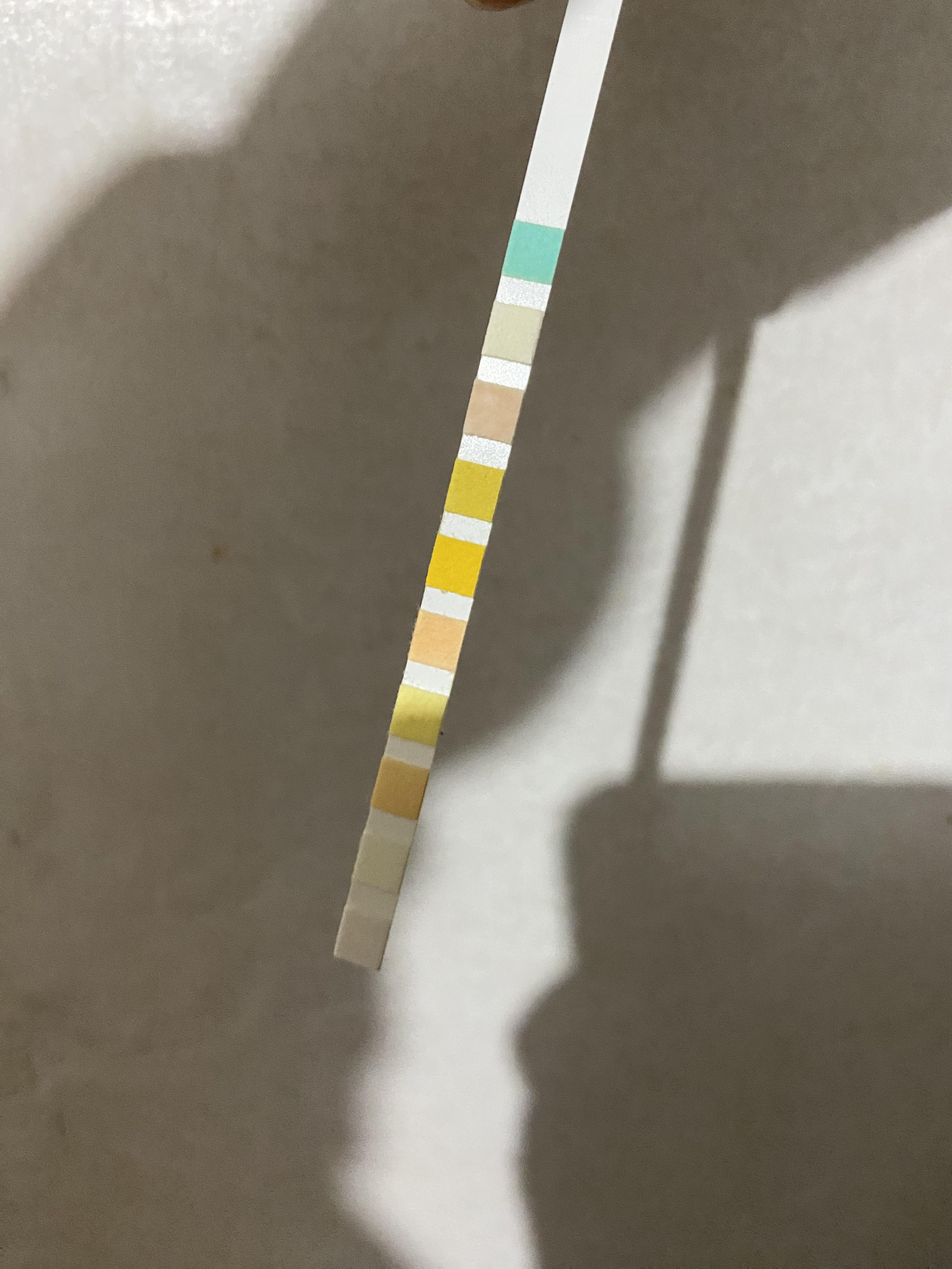Bilirubin: (491, 313, 534, 356)
Blood: (434, 549, 476, 587)
Glucose: (511, 231, 554, 276)
Ketone: (472, 393, 515, 431)
Leukocytes: (340, 923, 383, 956)
Nitrite: (359, 847, 403, 879)
Protein: (397, 698, 438, 735)
SpGravity: (452, 473, 494, 514)
Urobilinogen: (379, 771, 420, 808)
pH: (416, 624, 458, 662)
strip: (333, 0, 624, 972)
